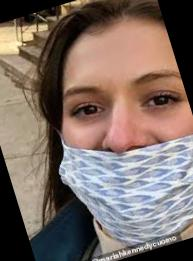mask_weared_incorrect: (44, 46, 193, 253)
